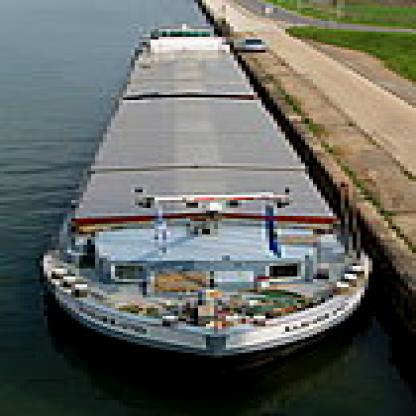Tanker: (32, 8, 388, 392)
